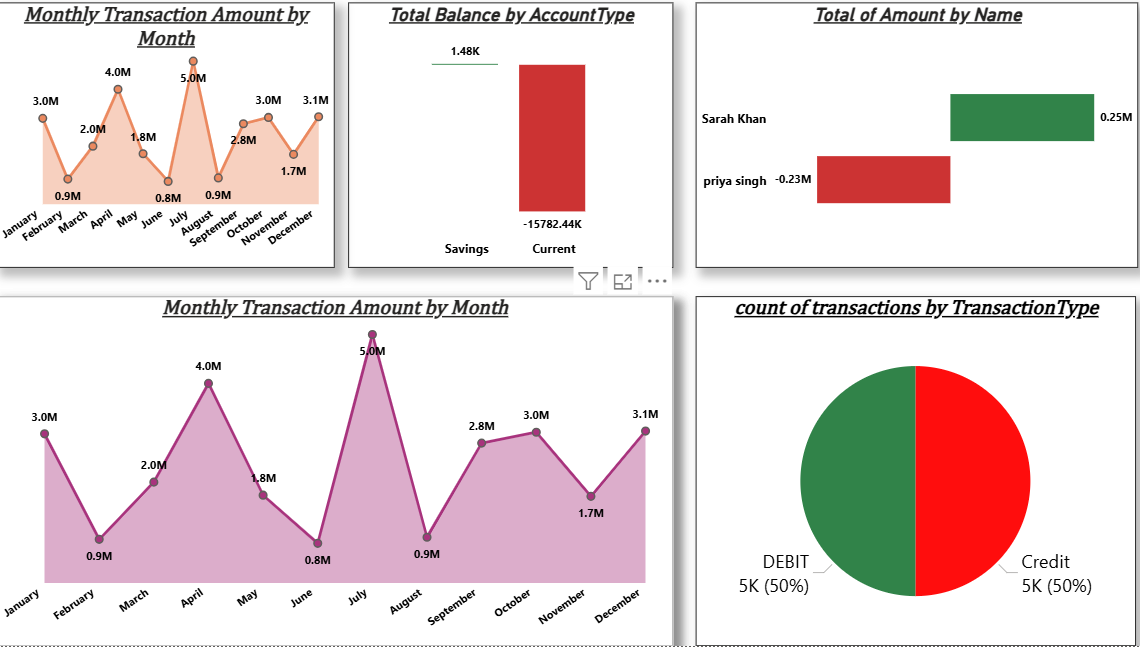

What the dashboard file says about the page in this screenshot:
{"tool":"powerbi","page":{"name":"Transactions_details","canvas":[1280,720],"ordinal":0},"visuals":[{"type":"pieChart","fields":{"Category":["CombinedBankingDataset.TransactionType"],"Y":["Measures table 1.count of transactions"]},"box":[778,336.2,483,384.2],"z":0},{"type":"areaChart","fields":{"Category":["CombinedBankingDataset.TransactionDate.Variation.Date Hierarchy.Month"],"Y":["Measures table 1.Monthly Transaction Amount"]},"box":[9.6,336.2,743.7,384.2],"z":1000},{"type":"barChart","title":"Total of Amount by Name","fields":{"Y":["Sum(CombinedBankingDataset.Amount)"],"Category":["CombinedBankingDataset.Name"]},"box":[778,13.7,485.8,290.9],"z":2000},{"type":"clusteredColumnChart","fields":{"Y":["Measures table 1.Total Balance"],"Category":["CombinedBankingDataset.AccountType"]},"box":[396.6,13.7,356.8,290.9],"z":3000},{"type":"lineChart","fields":{"Category":["CombinedBankingDataset.TransactionDate.Variation.Date Hierarchy.Month"],"Y":["Measures table 1.Monthly Transaction Amount"]},"box":[9.6,13.7,371.9,290.9],"z":4000},{"type":"areaChart","fields":{"Category":["CombinedBankingDataset.TransactionDate.Variation.Date Hierarchy.Month"],"Y":["Measures table 1.Monthly Transaction Amount"]},"box":[9.6,335.8,743.7,384.2],"z":5000}]}

Visuals, with their boxes in screenshot pixels (x1, y1, x2, y2), scaled from the page's 1280x720 canvas onto the 1140x647 screenshot:
pieChart - CombinedBankingDataset.TransactionType x Measures table 1.count of transactions: (693, 302, 1123, 646)
areaChart - CombinedBankingDataset.TransactionDate.Variation.Date Hierarchy.Month x Measures table 1.Monthly Transaction Amount: (9, 302, 671, 646)
"Total of Amount by Name" barChart: (693, 12, 1126, 274)
clusteredColumnChart - Measures table 1.Total Balance x CombinedBankingDataset.AccountType: (353, 12, 671, 274)
lineChart - CombinedBankingDataset.TransactionDate.Variation.Date Hierarchy.Month x Measures table 1.Monthly Transaction Amount: (9, 12, 340, 274)
areaChart - CombinedBankingDataset.TransactionDate.Variation.Date Hierarchy.Month x Measures table 1.Monthly Transaction Amount: (9, 302, 671, 646)
